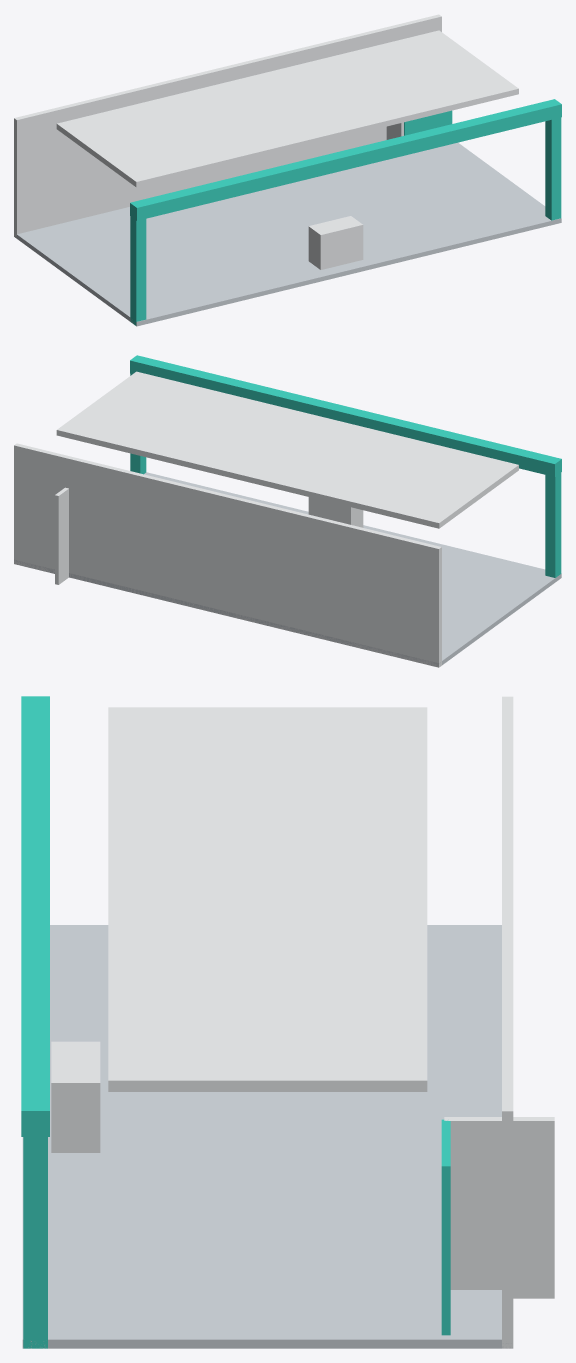
The picture shows the model from 3 angles, top to bottom: view 1: azimuth 30°, elevation 25°; view 2: azimuth 150°, elevation 25°; view 3: azimuth 270°, elevation 25°; orthographic projection. The views are drawn at different scales.
Visible parts, largest first — view 1: Exhibition Booth Concept; view 2: Exhibition Booth Concept; view 3: Exhibition Booth Concept.
Part boxes in pixels (x1,y1,x2,y2): Exhibition Booth Concept: (14,14,561,326); Exhibition Booth Concept: (14,355,561,667); Exhibition Booth Concept: (21,696,554,1348).
Bounding box in the file's own units: 12 × 3.34 × 6.52.
